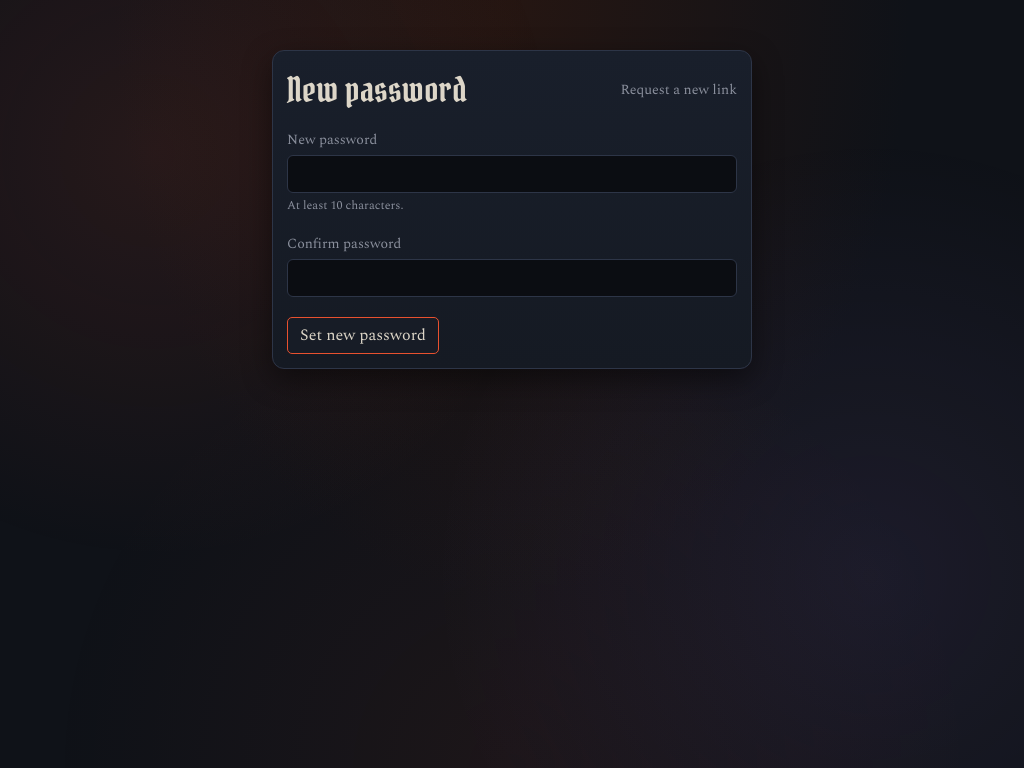
Test: reset password › submits the token and new password
In the password field labelled "New password At least 10 characters.": (512, 174) [287,155,737,193], type "a brand new password"
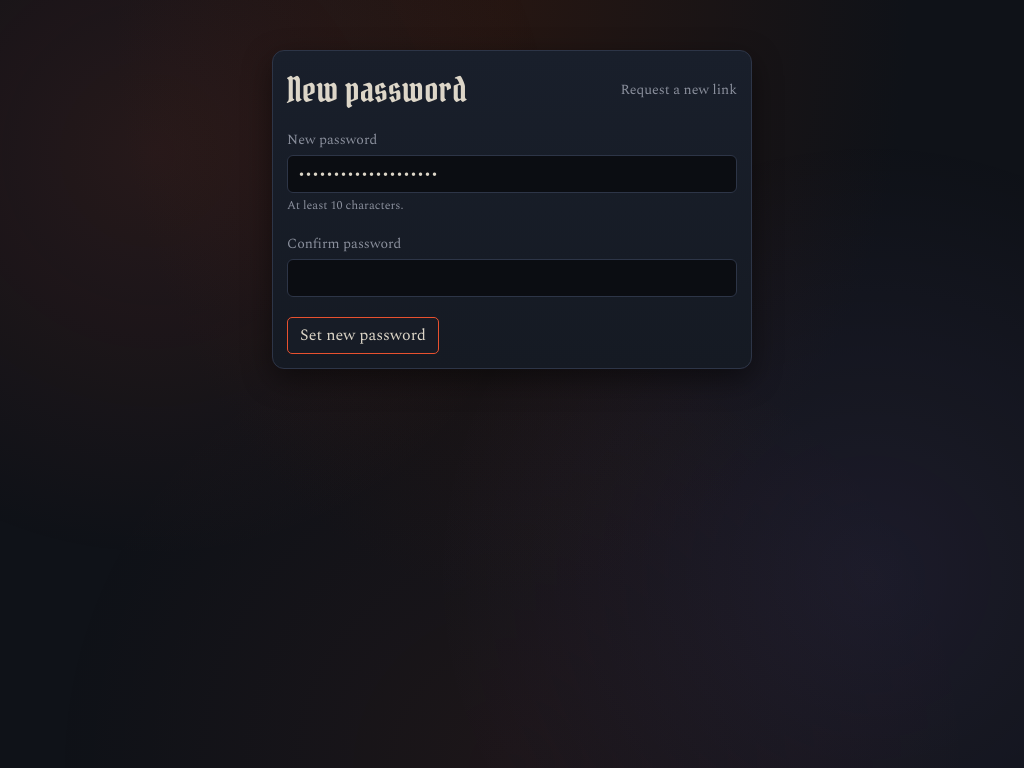
In the password field labelled "Confirm password": (512, 278) [287,259,737,297], type "a brand new password"
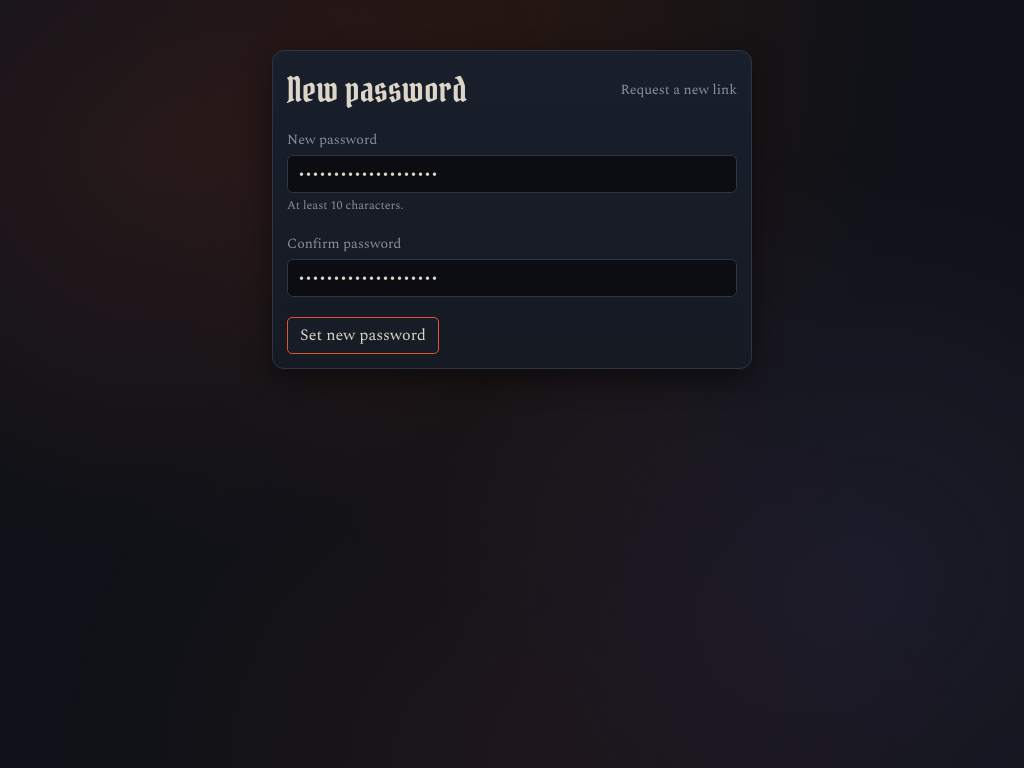
Click the button "Set new password": (363, 336) [287,317,439,354]
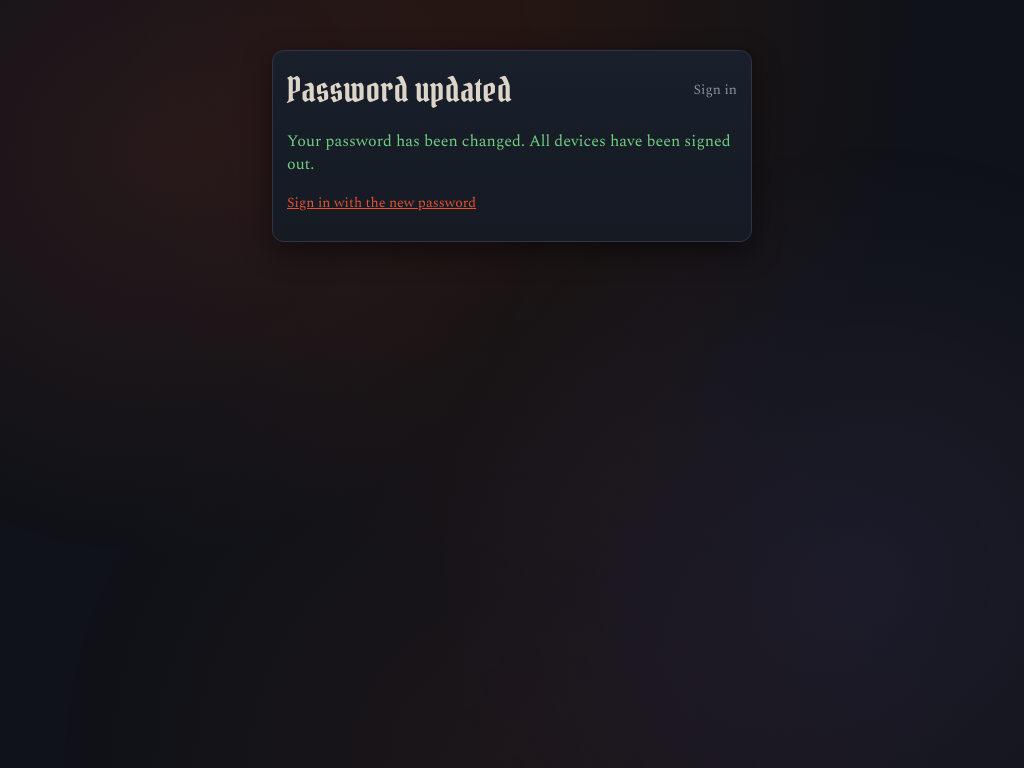
Now the heading "Password updated" is shown, box [287,65,512,114]
